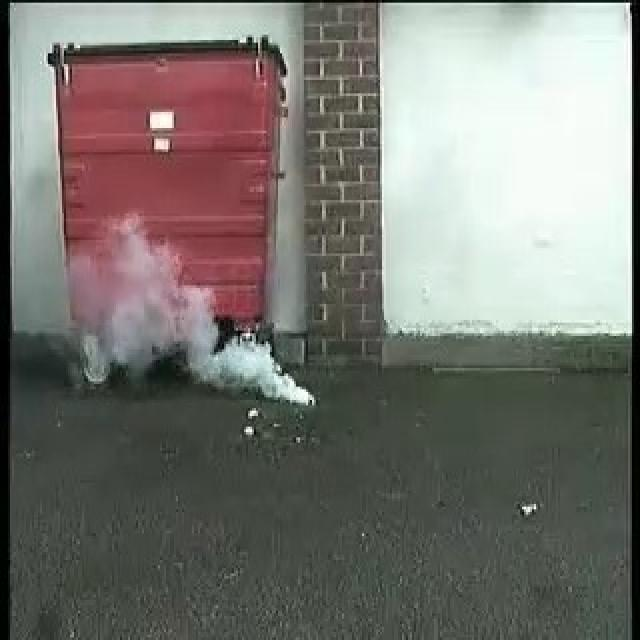smoke: (76, 227, 315, 407)
